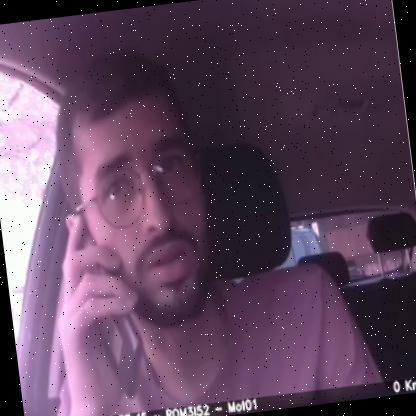phone: (66, 228, 156, 400)
